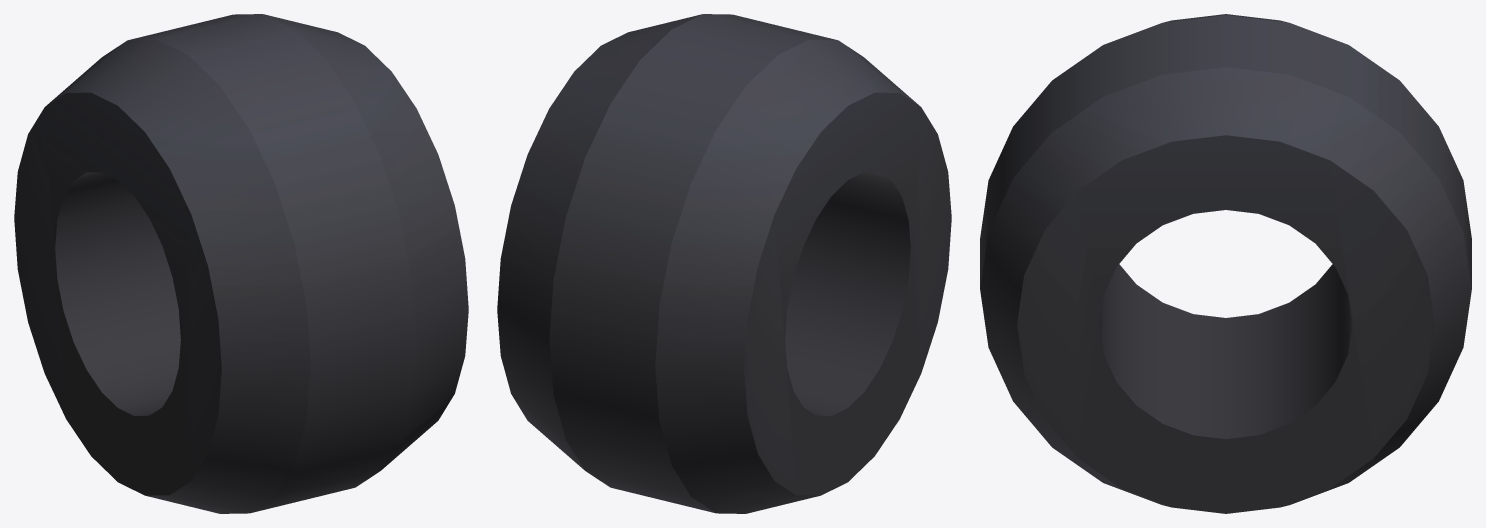
Rendered from debris-tire.glb.
3 renders of one model, left to right at view 1: azimuth 30°, elevation 25°; view 2: azimuth 150°, elevation 25°; view 3: azimuth 270°, elevation 25°, orthographic.
Visible parts, largest first — view 1: debris-tire; view 2: debris-tire; view 3: debris-tire.
Boxes of the visible parts, x1,y1,x2,y2 form: debris-tire: (14,14,468,513); debris-tire: (497,14,951,513); debris-tire: (980,14,1471,513).
Size of the model in its own units: 0.35 by 0.6 by 0.6.
1 material, 1 textured.
